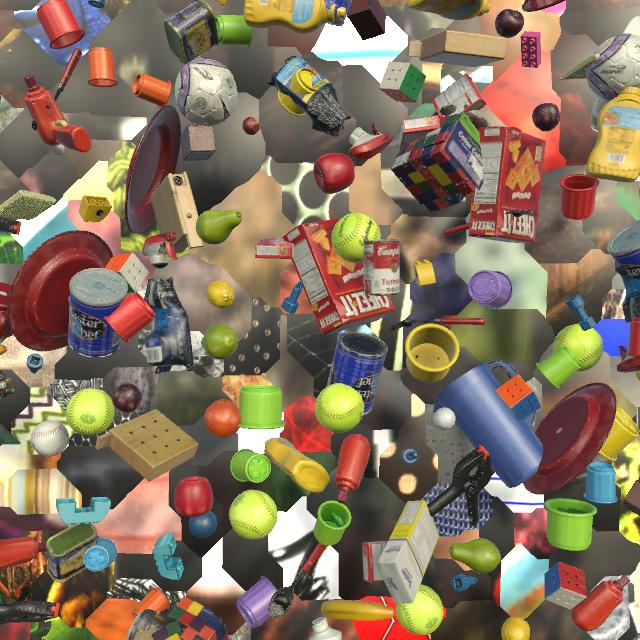ycb_002_master_chef_can: (68, 268, 128, 358), (326, 331, 388, 416), (607, 220, 640, 279), (320, 0, 352, 26)
ycb_003_cracker_box: (283, 218, 395, 336), (468, 126, 546, 243)
ycb_004_sugar_box: (377, 500, 439, 603)
ycb_005_tomato_soup_can: (363, 239, 400, 296)
ycb_006_mustard_bottle: (586, 87, 640, 182), (264, 437, 330, 493), (244, 0, 346, 34), (407, 0, 490, 20)
ycb_009_gelatin_box: (432, 73, 486, 118), (398, 115, 440, 149), (362, 541, 388, 582), (255, 237, 294, 259)
ycb_010_potted_meat_can: (164, 0, 219, 64), (46, 523, 97, 583)
ycb_011_banana: (321, 600, 394, 621), (0, 344, 7, 355)
ycb_013_apple: (313, 153, 355, 194), (174, 476, 213, 517)
ycb_014_lemon: (206, 281, 235, 308), (501, 616, 530, 640), (635, 371, 640, 381)
ycb_016_pear: (448, 538, 501, 574), (196, 209, 242, 245), (201, 324, 238, 360)
ycb_017_orange: (204, 399, 241, 438)
ycb_018_plum: (112, 383, 142, 413), (495, 9, 524, 38), (532, 103, 560, 132)
